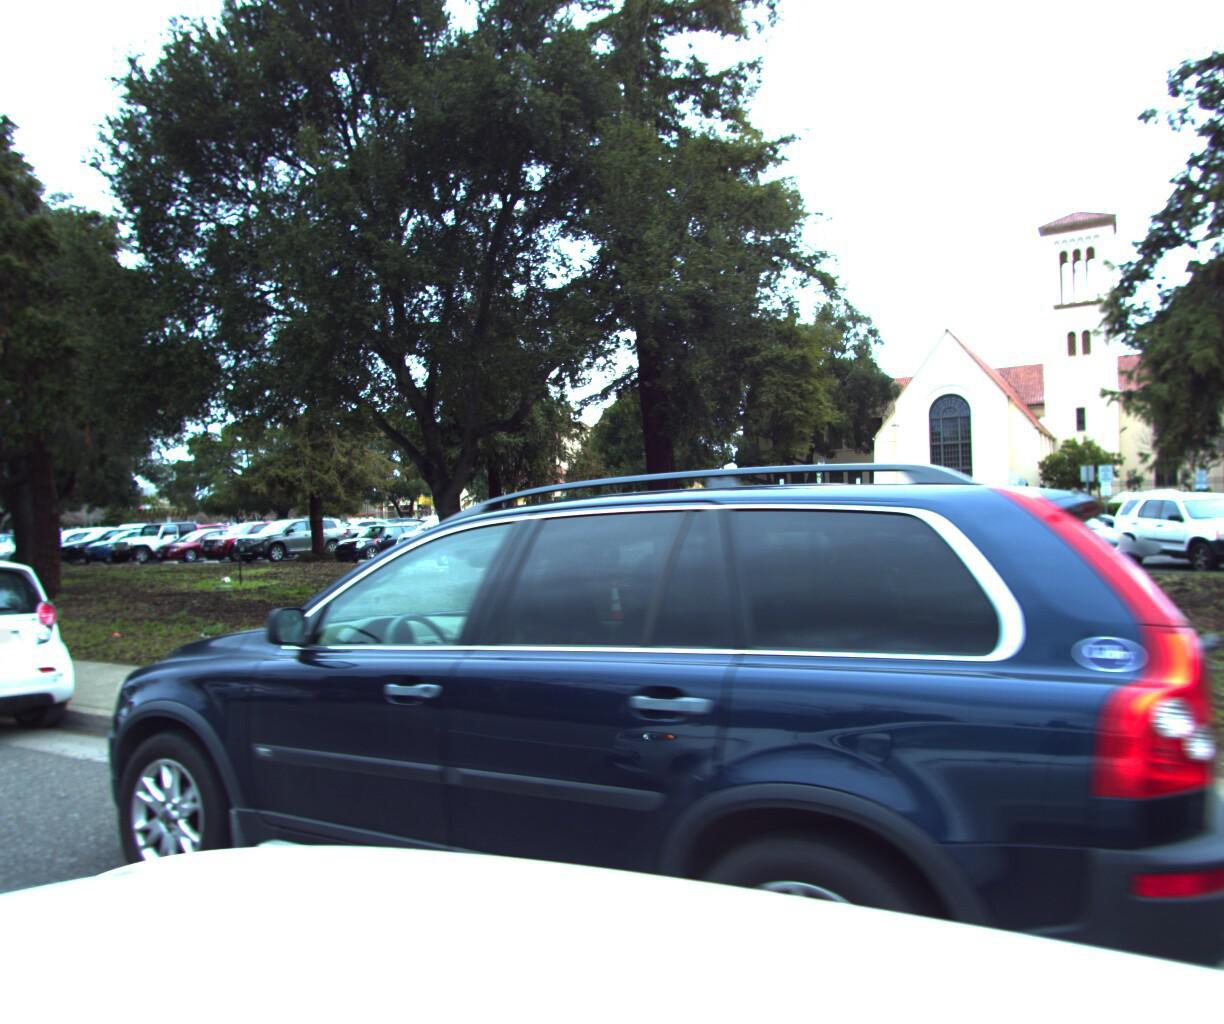car: (36, 442, 1224, 1024), (0, 543, 91, 775)
